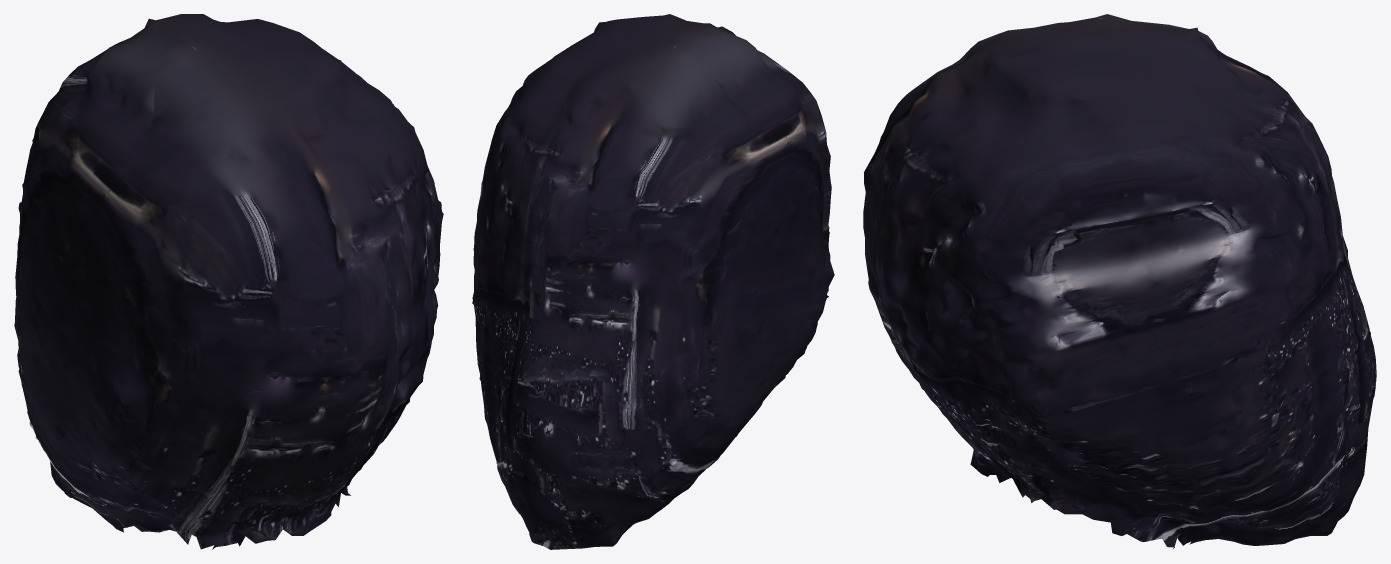
Rendered from hanzawamask.obj.
3 views of the same model, side by side, from view 1: azimuth 30°, elevation 25°; view 2: azimuth 150°, elevation 25°; view 3: azimuth 270°, elevation 25° (orthographic). The views are drawn at different scales.
Visible parts, largest first — view 1: default.001; view 2: default.001; view 3: default.001.
Boxes of the visible parts, <box> form: default.001: <box>14,14,443,549</box>; default.001: <box>472,14,834,549</box>; default.001: <box>863,14,1376,549</box>.
Size of the model in its own units: 0.1478 by 0.2162 by 0.1991.
